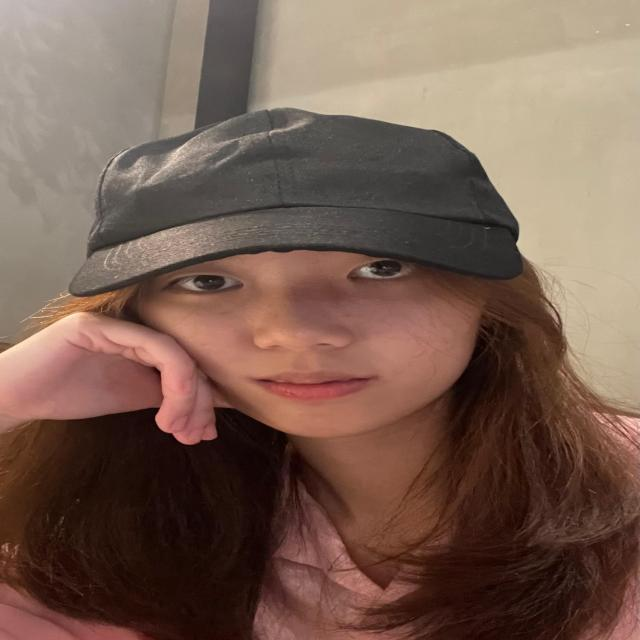3_gorra: (63, 105, 529, 298)
